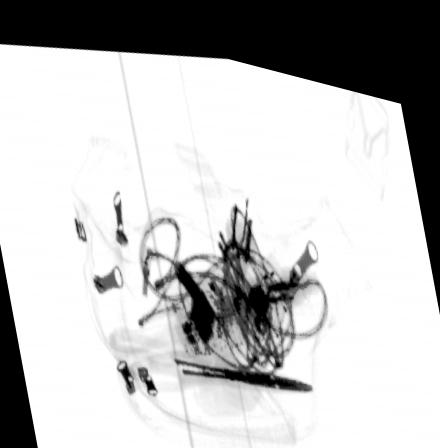Scissors: (109, 321, 313, 388)
